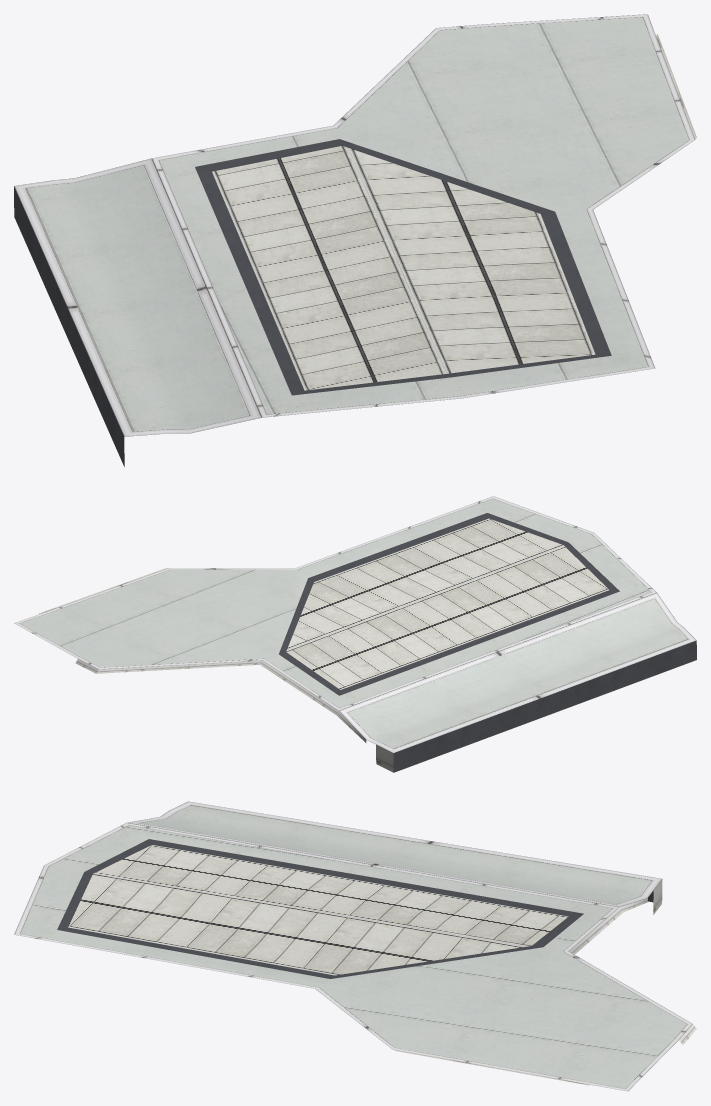
File: STA20_walkway02.FBX
3 renders of one model, top to bottom at view 1: azimuth 30°, elevation 25°; view 2: azimuth 150°, elevation 25°; view 3: azimuth 270°, elevation 25°, orthographic. The views are drawn at different scales.
Parts seen in each view (by area): view 1: STA20_walkway02; view 2: STA20_walkway02; view 3: STA20_walkway02.
Boxes of the visible parts, <box> form: STA20_walkway02: <box>14,14,696,466</box>; STA20_walkway02: <box>14,496,696,772</box>; STA20_walkway02: <box>14,801,696,1091</box>.
Size of the model in its own units: 31.27 by 3.03 by 28.62.
